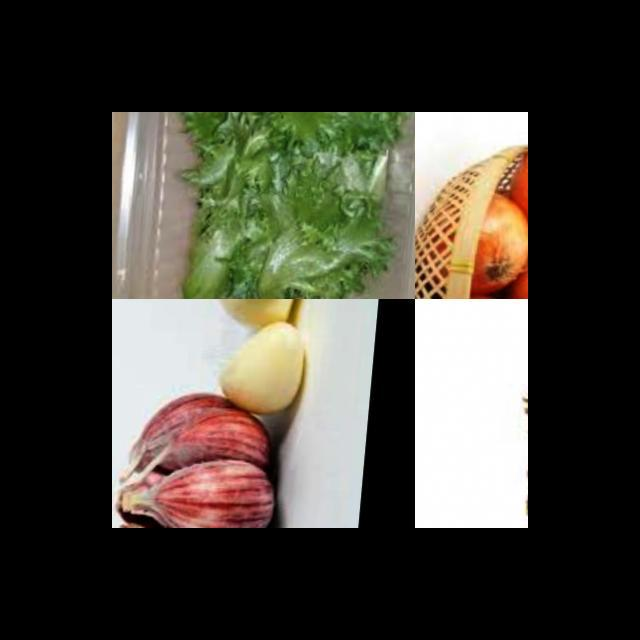garlic: (112, 380, 293, 528), (212, 316, 316, 421), (206, 299, 309, 328)
onion: (468, 186, 528, 299)
